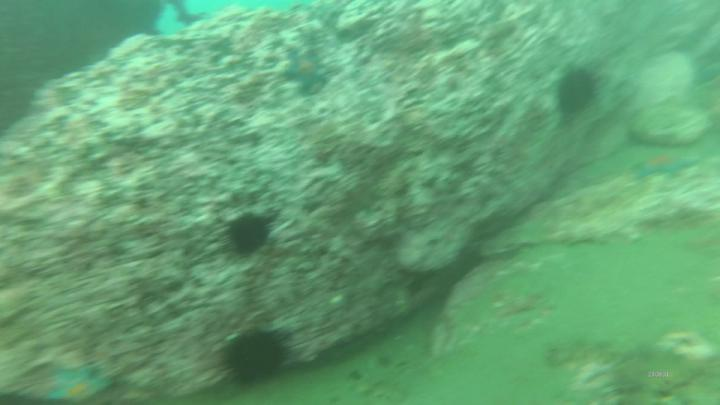echinus: (222, 323, 287, 390), (557, 67, 605, 121), (228, 214, 273, 258)
starfish: (50, 366, 115, 405), (635, 148, 707, 183), (280, 47, 330, 96)
